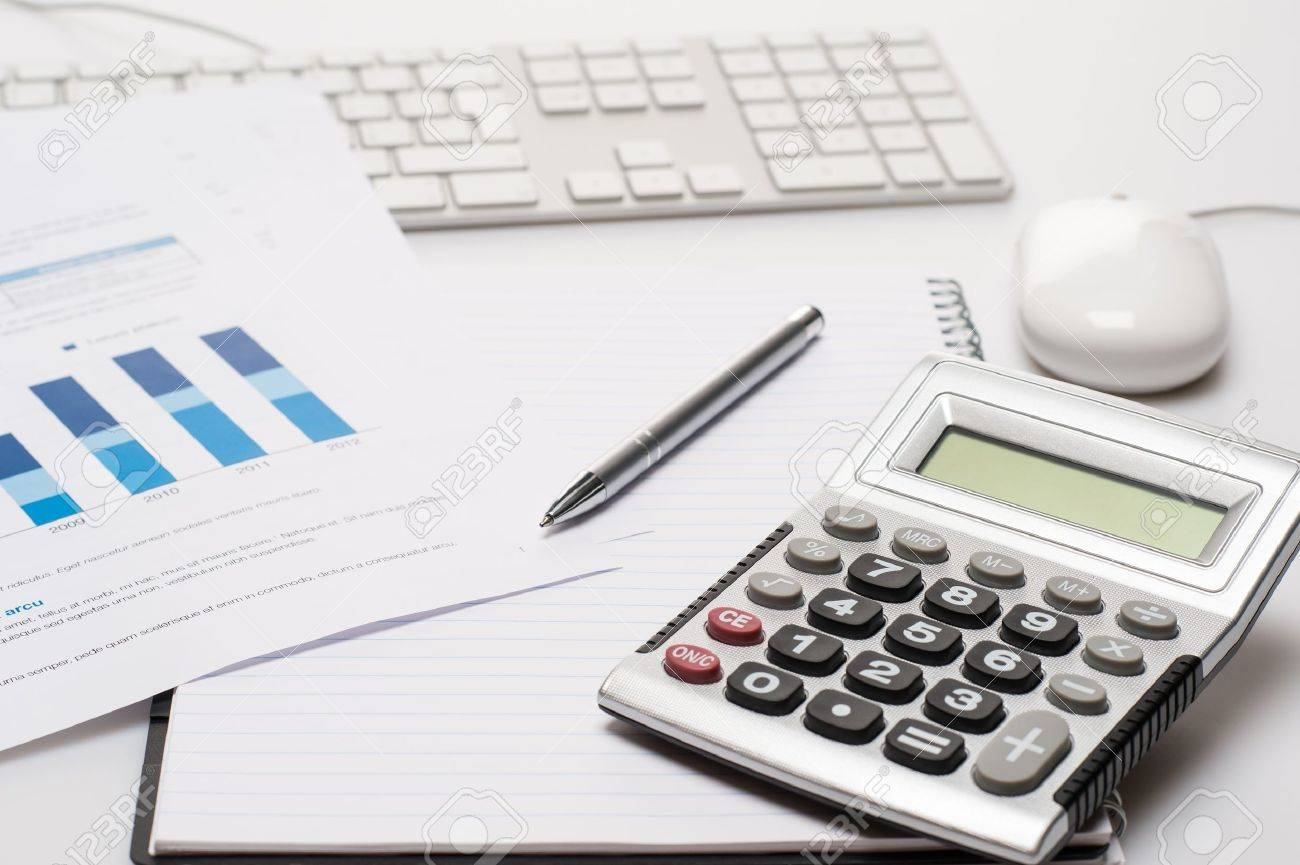Calculator: (569, 352, 1300, 864)
